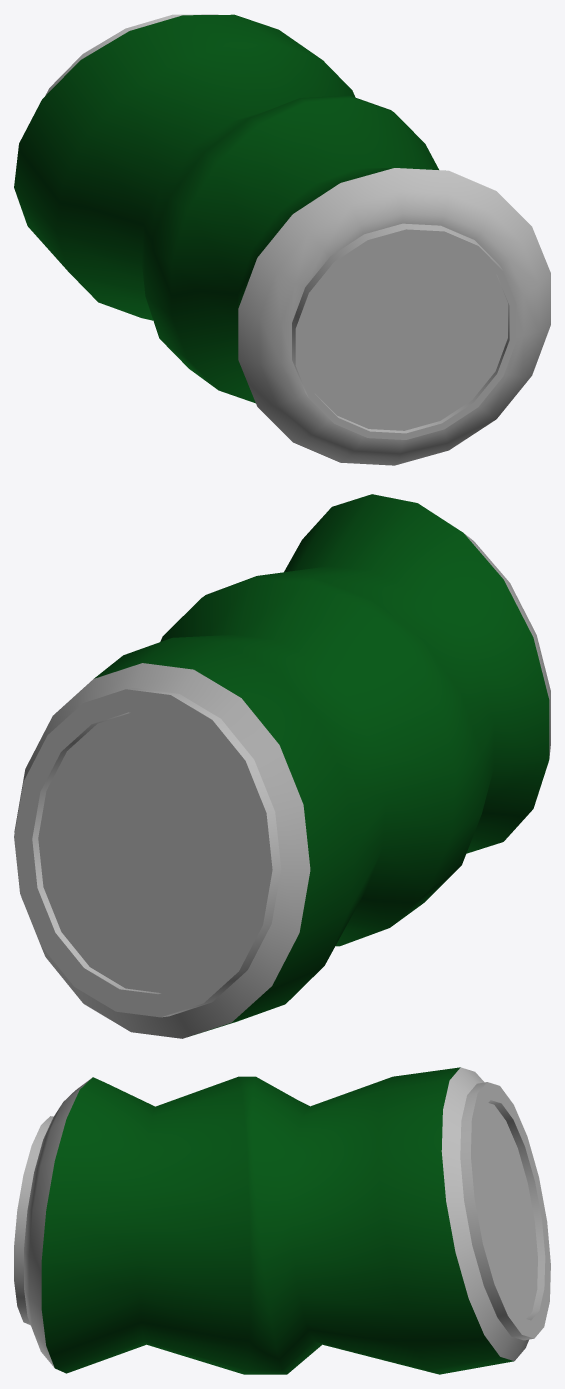
Rendered from Unwrapped_can4.fbx.
3 views of the same model, one above another, from view 1: azimuth 30°, elevation 25°; view 2: azimuth 150°, elevation 25°; view 3: azimuth 270°, elevation 25° (orthographic). The views are drawn at different scales.
Visible parts, largest first — view 1: Cylinder004; view 2: Cylinder004; view 3: Cylinder004.
Part boxes in pixels (x1,y1,x2,y2): Cylinder004: (14,14,550,465); Cylinder004: (14,494,550,1038); Cylinder004: (14,1067,550,1374).
Bounding box in the file's own units: 18.31 × 18.85 × 33.17.
